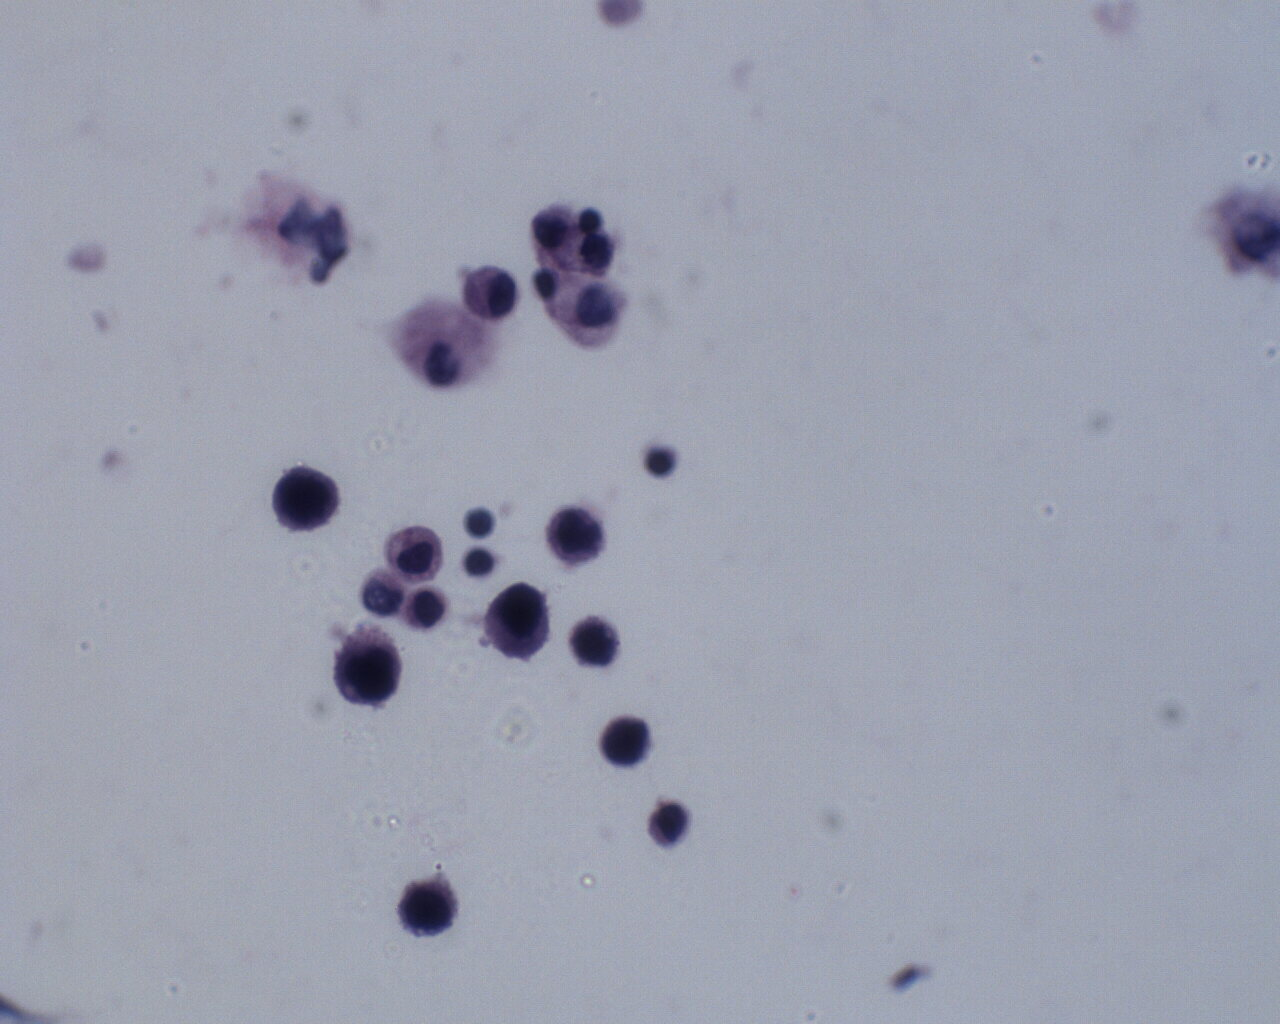ab: (479, 578, 555, 662), (331, 627, 406, 707), (270, 463, 341, 536), (396, 875, 462, 942), (545, 502, 610, 566), (566, 612, 628, 671), (597, 709, 653, 771)
lymph: (463, 504, 498, 542)
meso: (383, 522, 449, 590), (455, 258, 523, 319)
